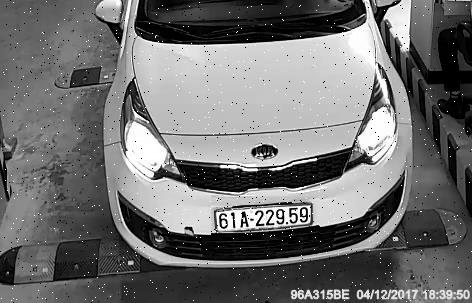License-plate: (213, 198, 322, 241)
